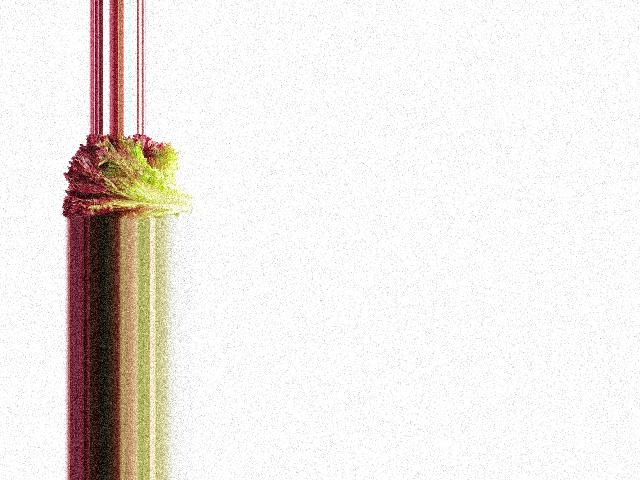lettuce: (54, 135, 197, 218)
